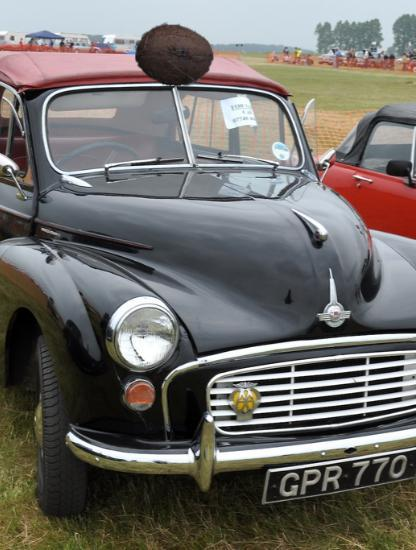Cocos: (135, 15, 214, 94)
